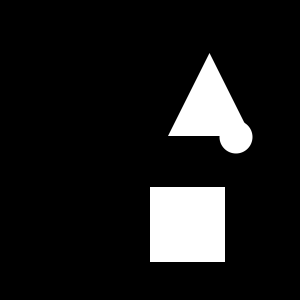circle: (150, 187, 225, 262)
rectangle: (219, 120, 252, 154)
triangle: (168, 53, 251, 136)
